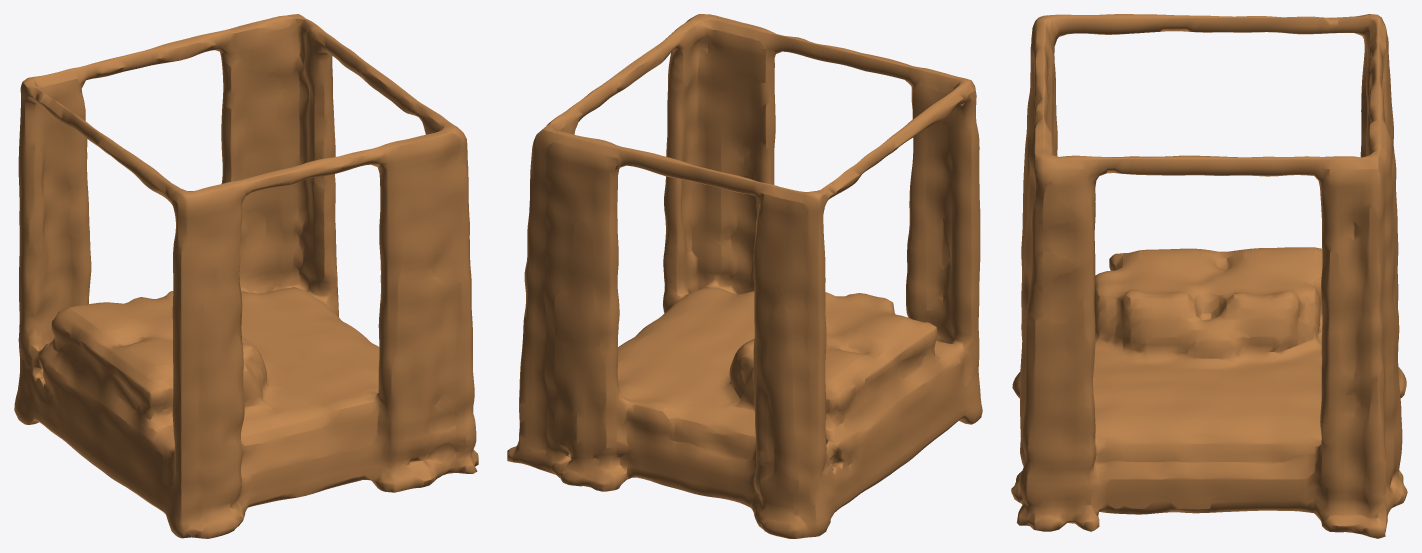
Rendered from bed_1_1.obj.
The picture shows the model from 3 angles, left to right: view 1: azimuth 30°, elevation 25°; view 2: azimuth 150°, elevation 25°; view 3: azimuth 270°, elevation 25°; orthographic projection. The views are drawn at different scales.
Bounding box in the file's own units: 0.771 × 0.7989 × 0.7779.
